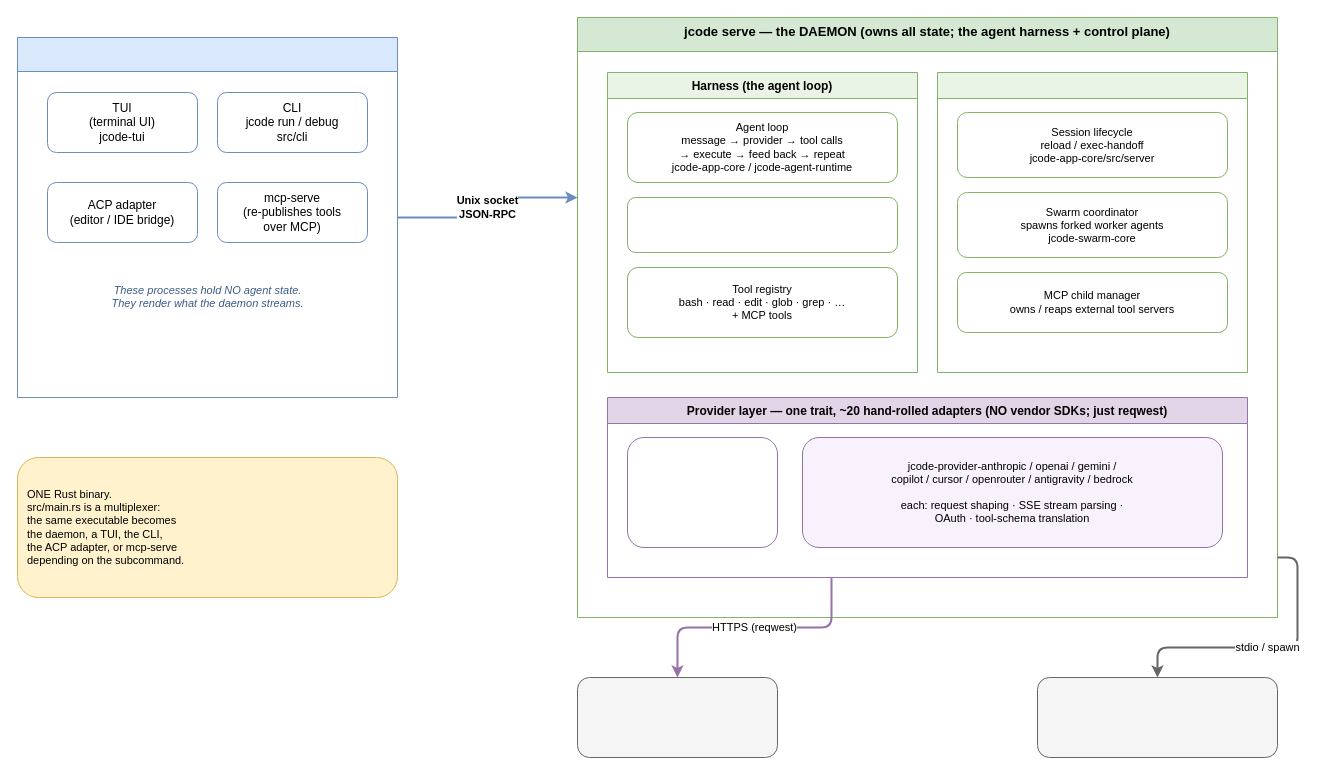
Image size: 1324x775. Some labels were removed from this diagram. The shapes that lost their labels are listed below. From the top down, each one's box as (x1, y1, x2, y2) in pixels, then its label:
(16, 36, 398, 398): Front-ends (thin, stateless — just attach & render)
(626, 196, 898, 252): Sessions + history context / compaction / memory
(936, 72, 1248, 372): Control plane (server layer)
(626, 436, 778, 548): trait Provider (jcode-provider-core) the one seam
(576, 676, 778, 758): LLM APIs Anthropic · OpenAI Gemini · …
(1036, 676, 1278, 758): External MCP tool servers serena · graphiti · …
